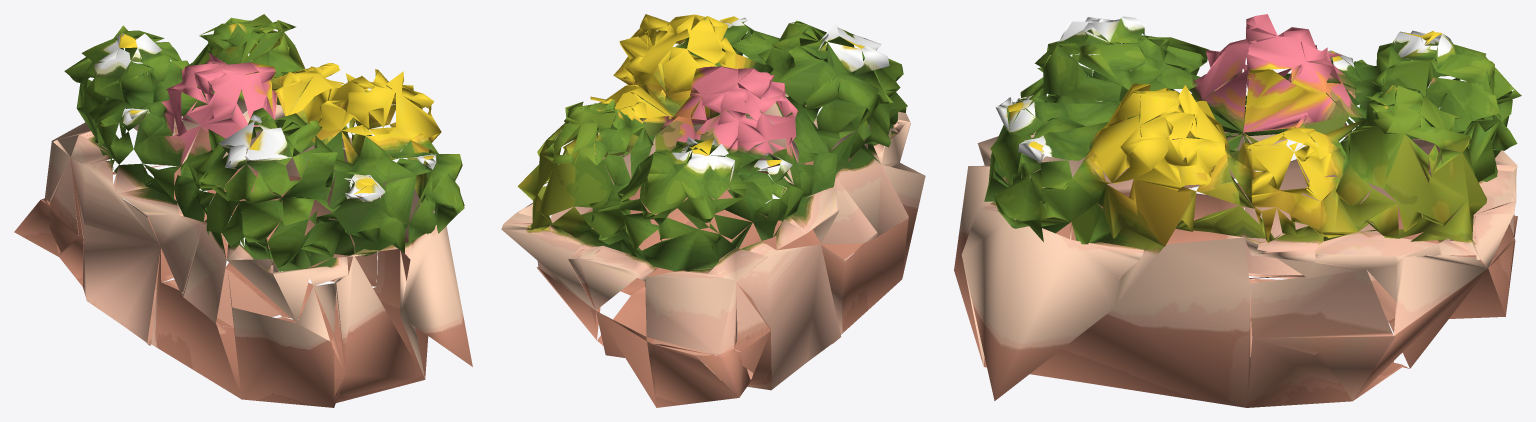
File: M-5_07_planter.glb
3 views of the same model, side by side, from view 1: azimuth 30°, elevation 25°; view 2: azimuth 150°, elevation 25°; view 3: azimuth 270°, elevation 25° (orthographic). The views are drawn at different scales.
Visible parts, largest first — view 1: planter; view 2: planter; view 3: planter.
Boxes of the visible parts, x1,y1,x2,y2 form: planter: (14, 14, 472, 407); planter: (501, 14, 925, 407); planter: (954, 14, 1521, 407).
Bounding box in the file's own units: 1.55 × 1.43 × 2.37.
Materials: 1 (1 with a texture image).
